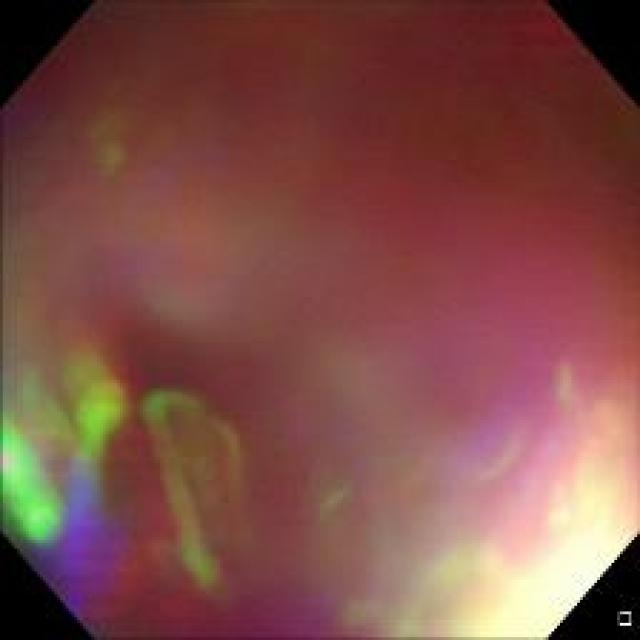color misalignment: (10, 6, 622, 630), (352, 375, 630, 631), (5, 349, 246, 590), (81, 98, 136, 188)
saturation: (468, 466, 635, 632)
